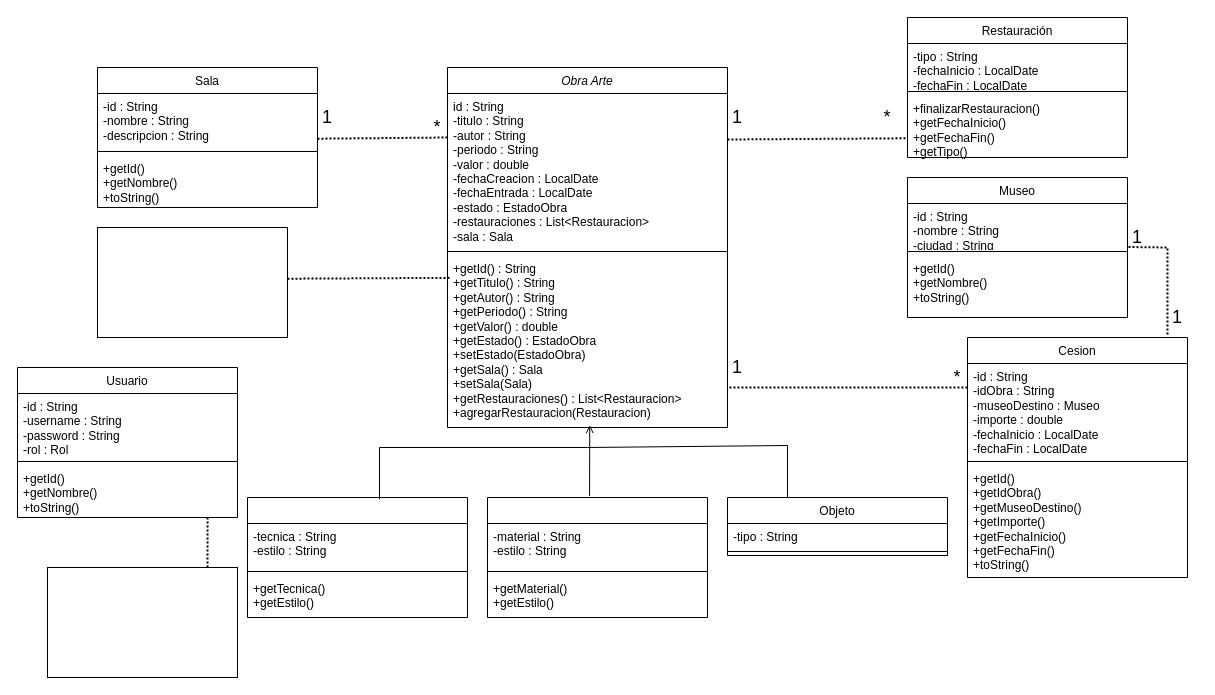
Image size: 1215x695. Some labels were removed from this diagram. Here are the shapes that lost their labels. From the top down, the box of each, then its label:
(96, 226, 288, 338): <<enumeration>> EstadoObra EXHIBICION EN_RESTAURACION CEDIDA EXPUESTA
(246, 496, 468, 618): Cuadro
(486, 496, 708, 618): Escultura
(46, 566, 238, 678): <<enumeration>> Rol DIRECTOR CATALOGADOR RESTAURADOR VISITANTE
